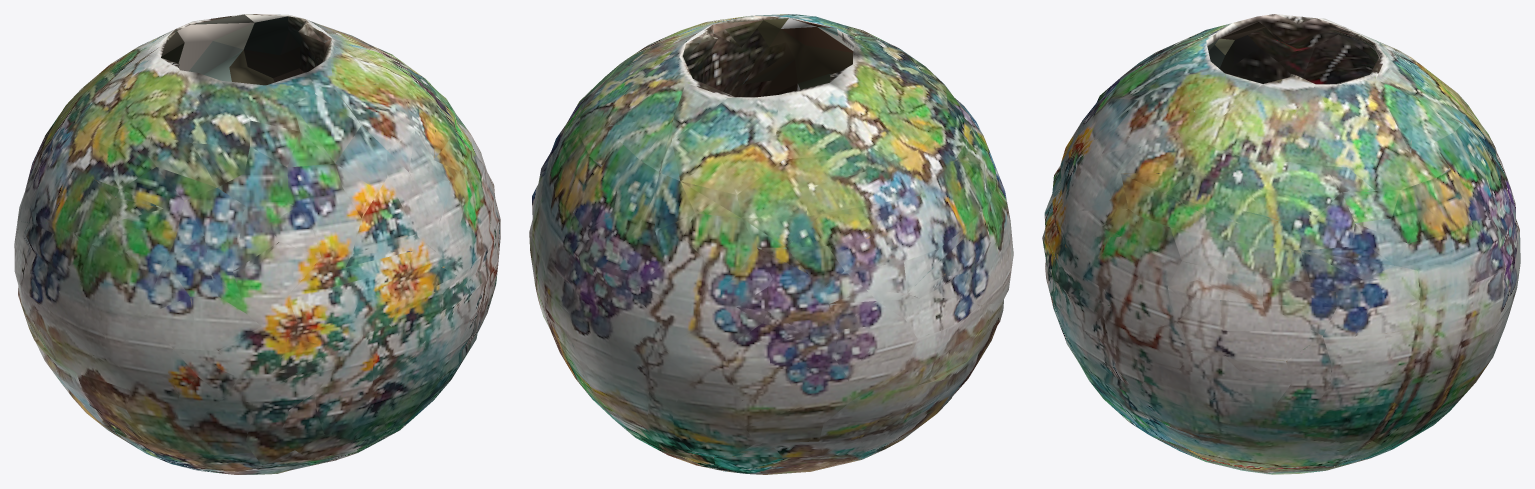
File: AS2 Chanlim Flowers7.glb
The picture shows the model from 3 angles, left to right: view 1: azimuth 30°, elevation 25°; view 2: azimuth 150°, elevation 25°; view 3: azimuth 270°, elevation 25°; orthographic projection.
Bounding box in the file's own units: 996 × 931 × 1000.
Materials: 1 (1 with a texture image).
